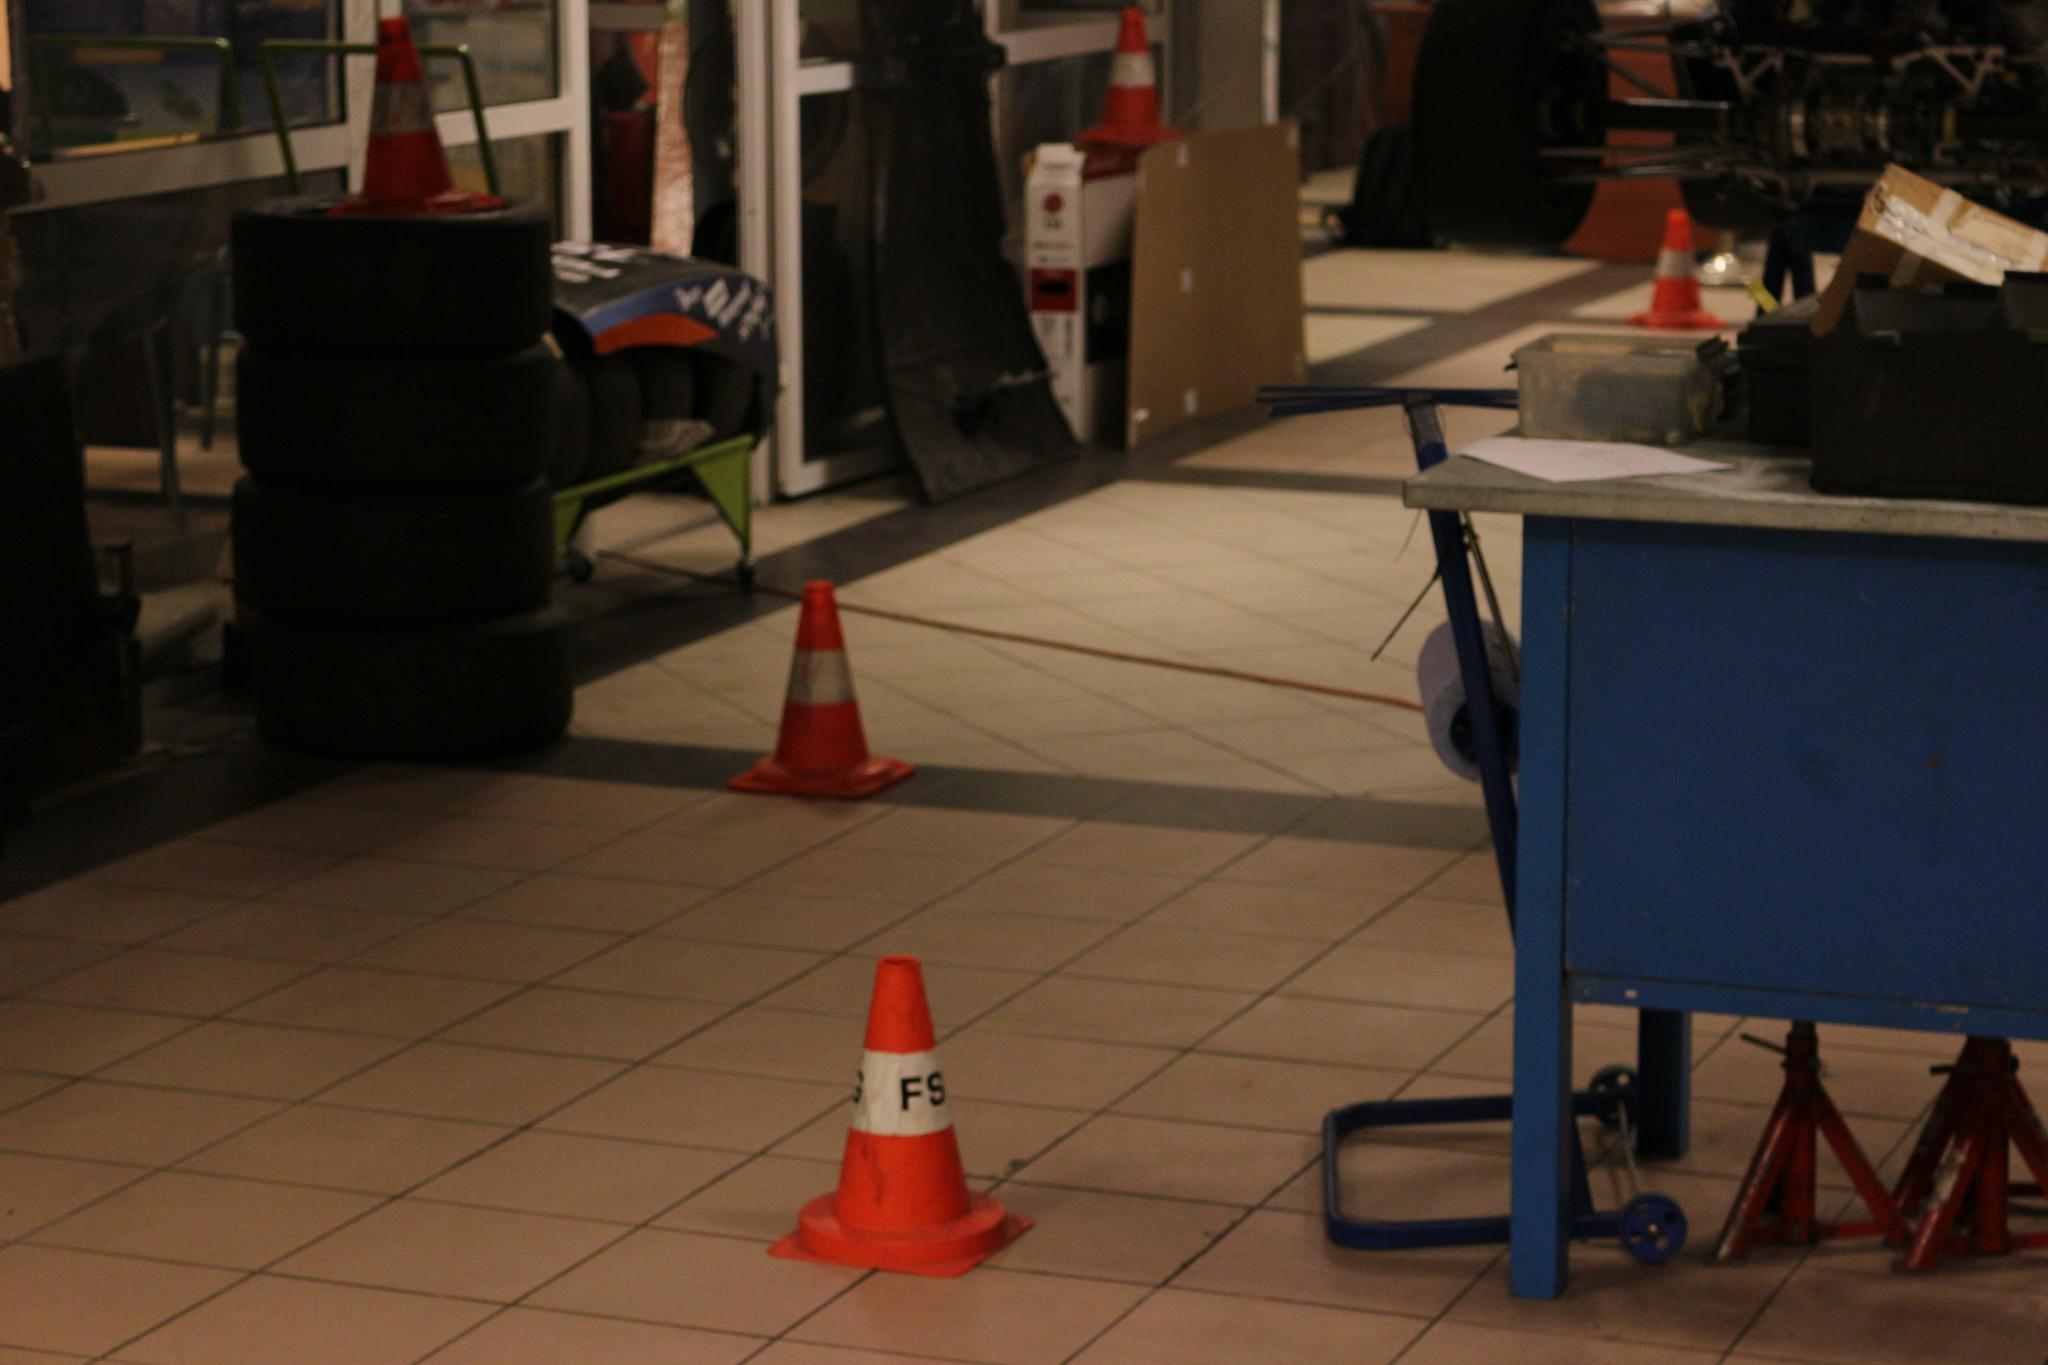Orange_Cone: (780, 951, 1029, 1271), (729, 571, 909, 800), (320, 11, 481, 219), (1078, 5, 1188, 155), (1625, 201, 1719, 326)
